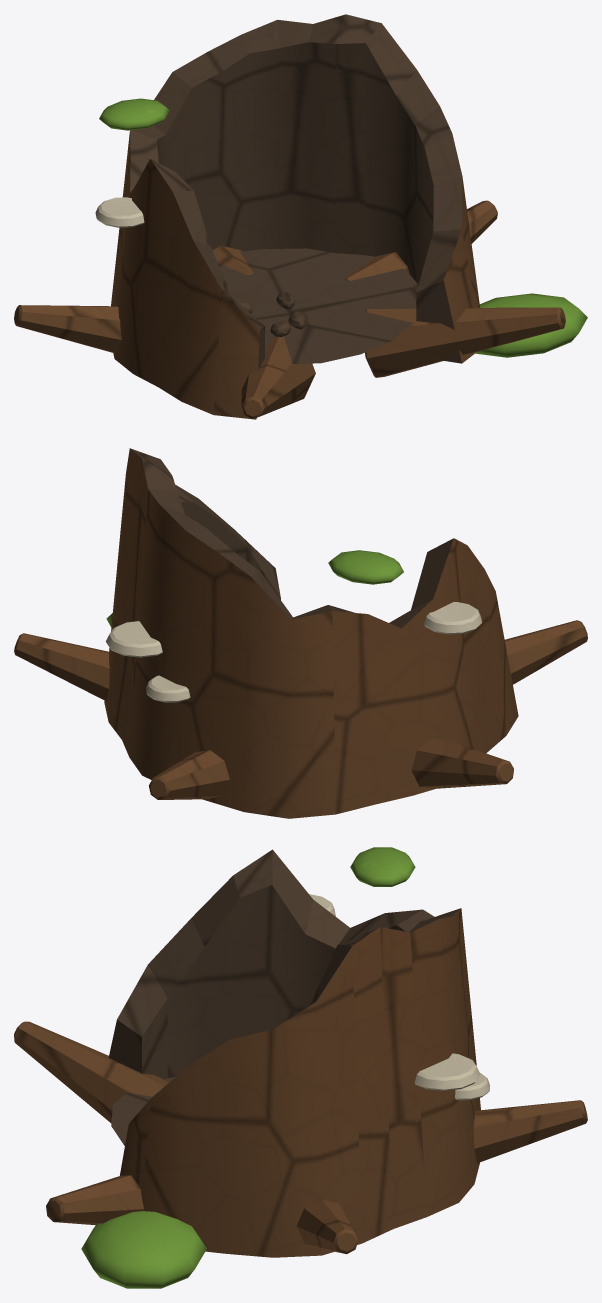
The model's file is stump_hollow.glb.
3 views of the same model, one above another, from view 1: azimuth 30°, elevation 25°; view 2: azimuth 150°, elevation 25°; view 3: azimuth 270°, elevation 25° (orthographic). The views are drawn at different scales.
Parts seen in each view (by area): view 1: stump_hollow; view 2: stump_hollow; view 3: stump_hollow.
Boxes of the visible parts, bbox=[...] form: stump_hollow: bbox=[14, 14, 587, 419]; stump_hollow: bbox=[14, 448, 587, 818]; stump_hollow: bbox=[14, 847, 587, 1288].
Size of the model in its own units: 2.44 by 1.45 by 2.28.
4 materials, 4 textured.
